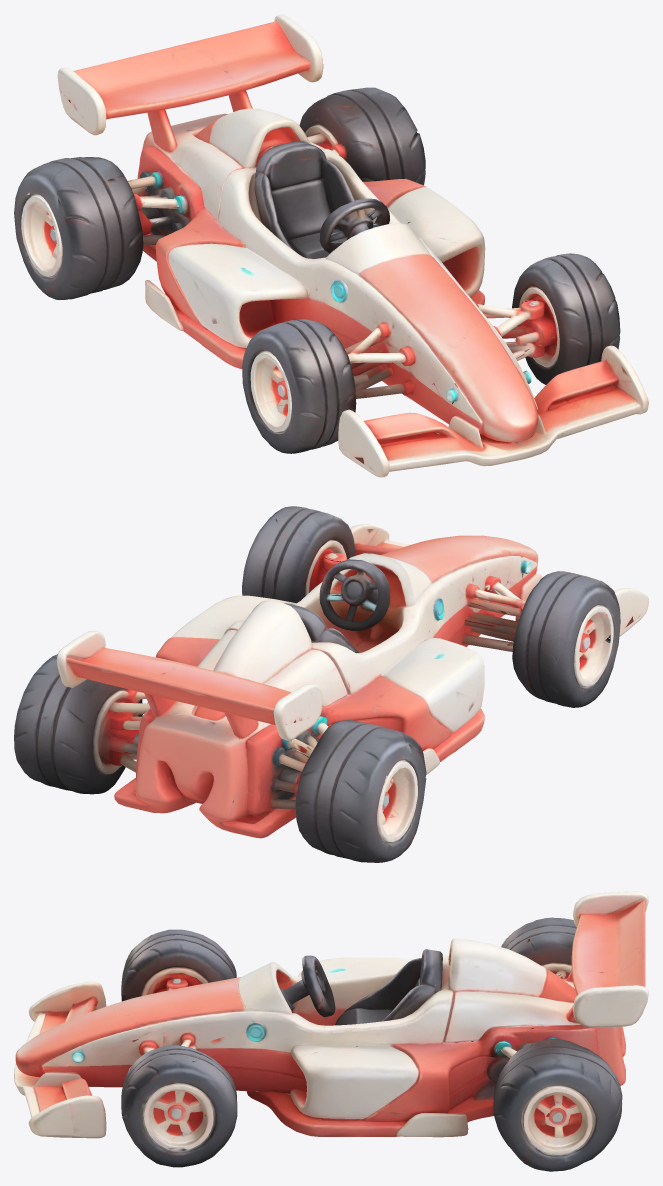
File: comet.glb
3 views of the same model, one above another, from view 1: azimuth 30°, elevation 25°; view 2: azimuth 150°, elevation 25°; view 3: azimuth 270°, elevation 25° (orthographic). The views are drawn at different scales.
Parts seen in each view (by area): view 1: model; view 2: model; view 3: model.
Part boxes in pixels (left/top/right/bottom): model: left=14, top=14, right=648, bottom=477; model: left=14, top=506, right=648, bottom=862; model: left=14, top=891, right=648, bottom=1171.
Bounding box in the file's own units: 1.11 × 0.5349 × 1.9.
1 material, 1 textured.
